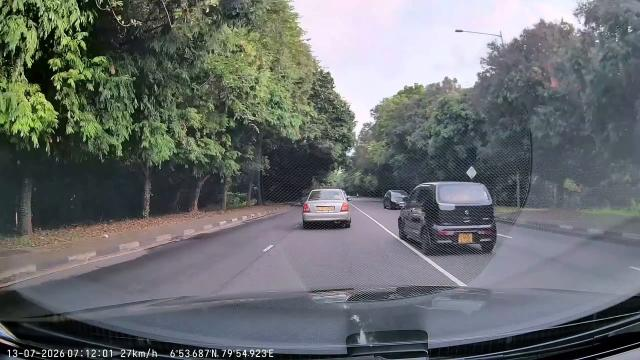illegal overtaking: (399, 177, 501, 264)
number plate: (454, 224, 480, 247)
